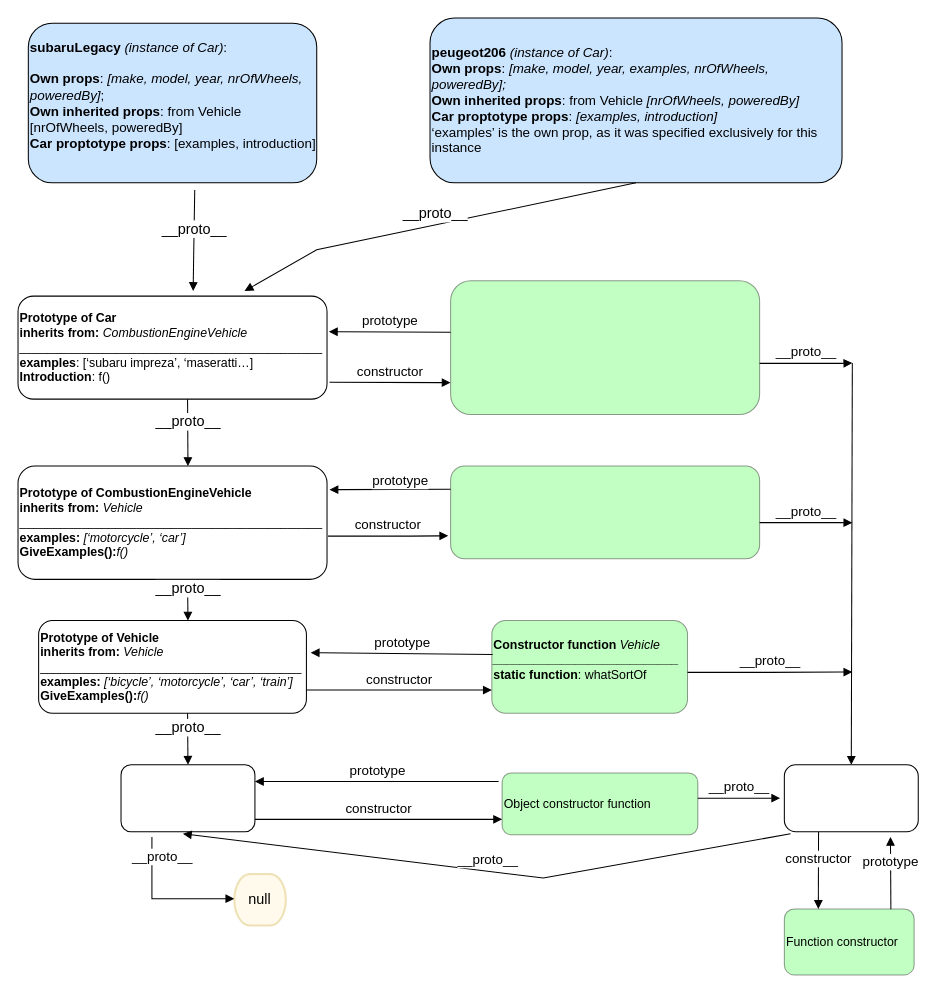
Some shapes in this 936 by 993 pixel diagram are drawn without their labels. Here are the shapes that lost their labels. From the top down, the centre of each, then its label:
At pixel 605 347: "Constructor function Car prototype: {examples, introduction} Introduction: f()".
At pixel 605 512: "Constructor function CombustionEngineVehicle".
At pixel 187 798: "Prototype of Object".
At pixel 850 798: "Prototype of Function".
